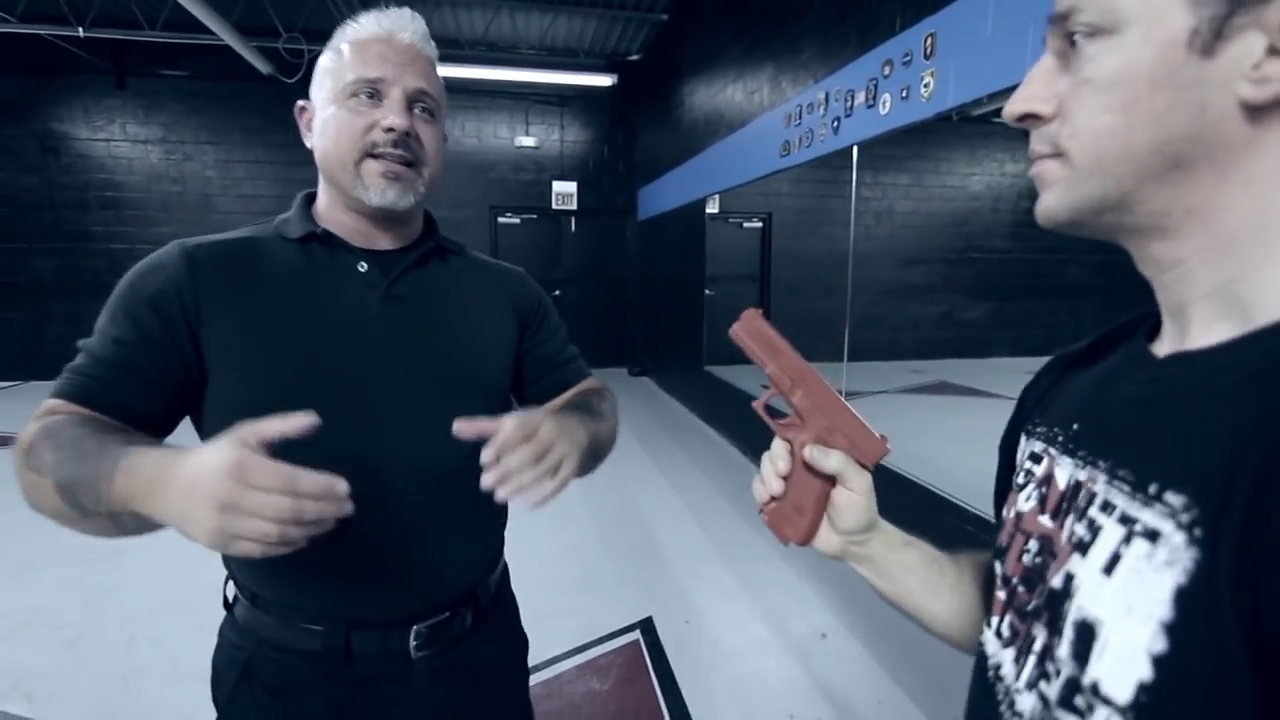pistol: (725, 305, 894, 550)
